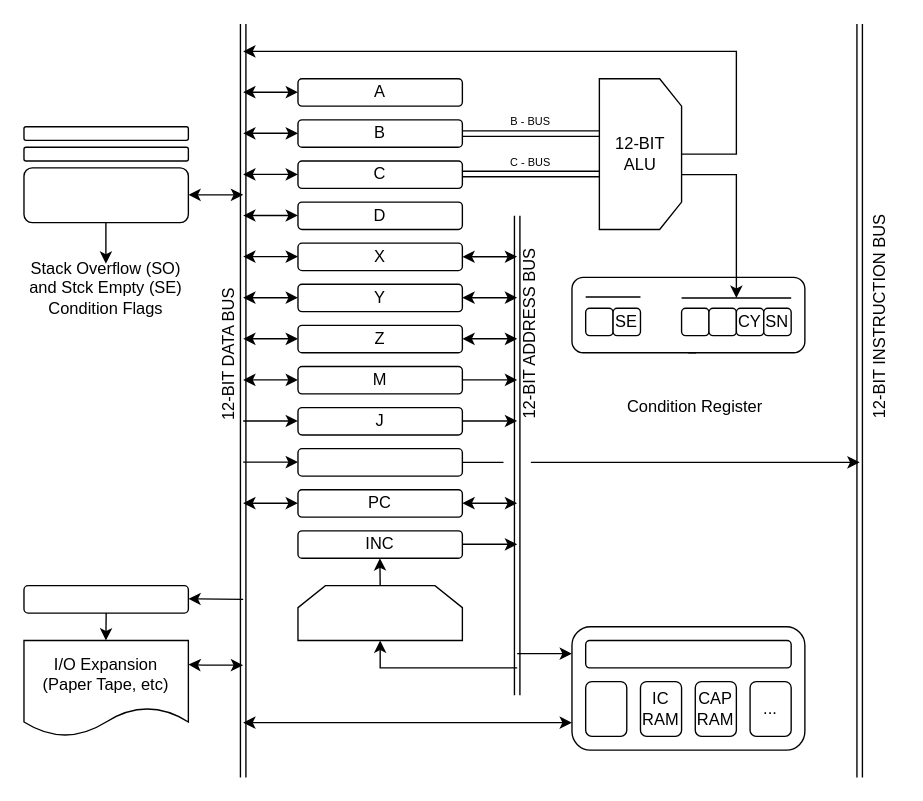
This 923x801 diagram has some shape labels left out. The box of each missing label's shape, as (x1, y1, x2, y2) in pixels:
12-Bit Incrementer: (297, 584, 462, 640)
8 Level Stack: (23, 166, 188, 223)
EZ: (680, 307, 709, 336)
I/O Address: (23, 584, 188, 613)
INST: (297, 447, 462, 476)
Memory Decoder: (584, 639, 791, 668)
NZ: (708, 307, 736, 336)
ROM: (584, 680, 627, 736)
SO: (584, 307, 613, 336)
